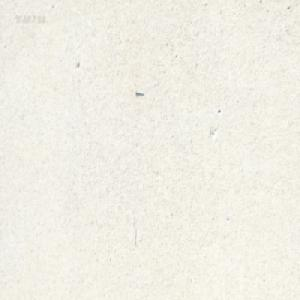Nail: (134, 89, 144, 95)
